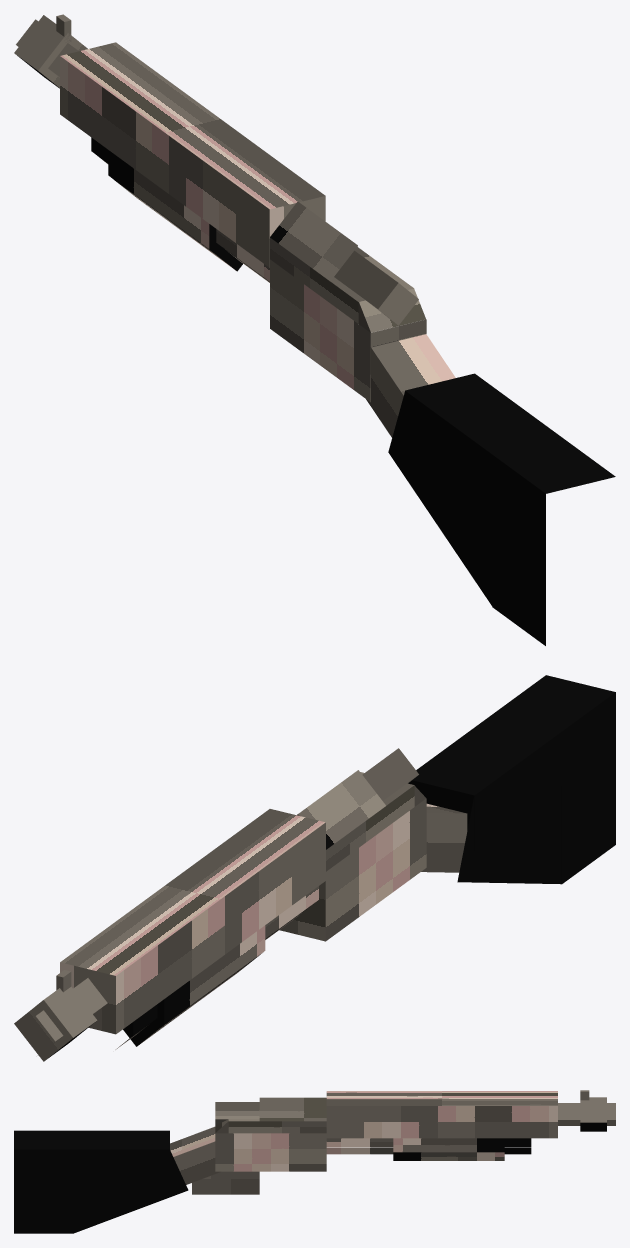
Rendered from jeg_pump_shotgun.glb.
The picture shows the model from 3 angles, top to bottom: view 1: azimuth 30°, elevation 25°; view 2: azimuth 150°, elevation 25°; view 3: azimuth 270°, elevation 25°; orthographic projection. The views are drawn at different scales.
Parts seen in each view (by area): view 1: Gun; view 2: Gun; view 3: Gun.
Part boxes in pixels (<box>): Gun: <box>14,14,615,645</box>; Gun: <box>14,675,615,1061</box>; Gun: <box>14,1090,615,1233</box>.
Bounding box in the file's own units: 0.0625 × 0.2062 × 0.845.
1 material, 1 textured.
